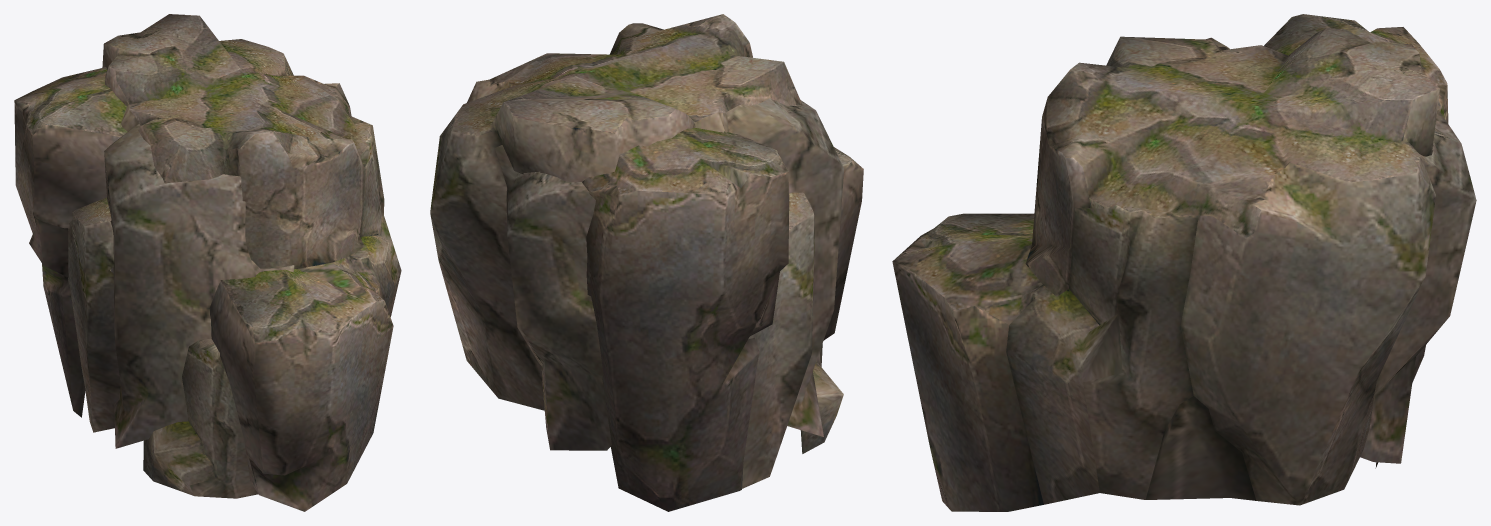
The model's file is m_shitou_03.FBX.
The picture shows the model from 3 angles, left to right: view 1: azimuth 30°, elevation 25°; view 2: azimuth 150°, elevation 25°; view 3: azimuth 270°, elevation 25°; orthographic projection. The views are drawn at different scales.
Parts seen in each view (by area): view 1: m_shitou_03; view 2: m_shitou_03; view 3: m_shitou_03.
Part boxes in pixels (x1,y1,x2,y2): m_shitou_03: (14, 14, 401, 511); m_shitou_03: (430, 14, 863, 511); m_shitou_03: (892, 14, 1476, 511).
Size of the model in its own units: 277 by 308 by 363.
